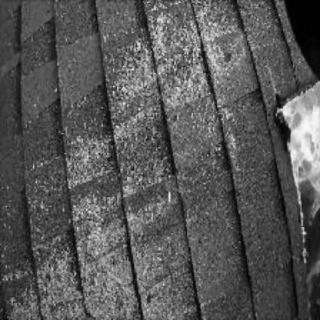Fire: (279, 79, 317, 237), (303, 252, 317, 306)
